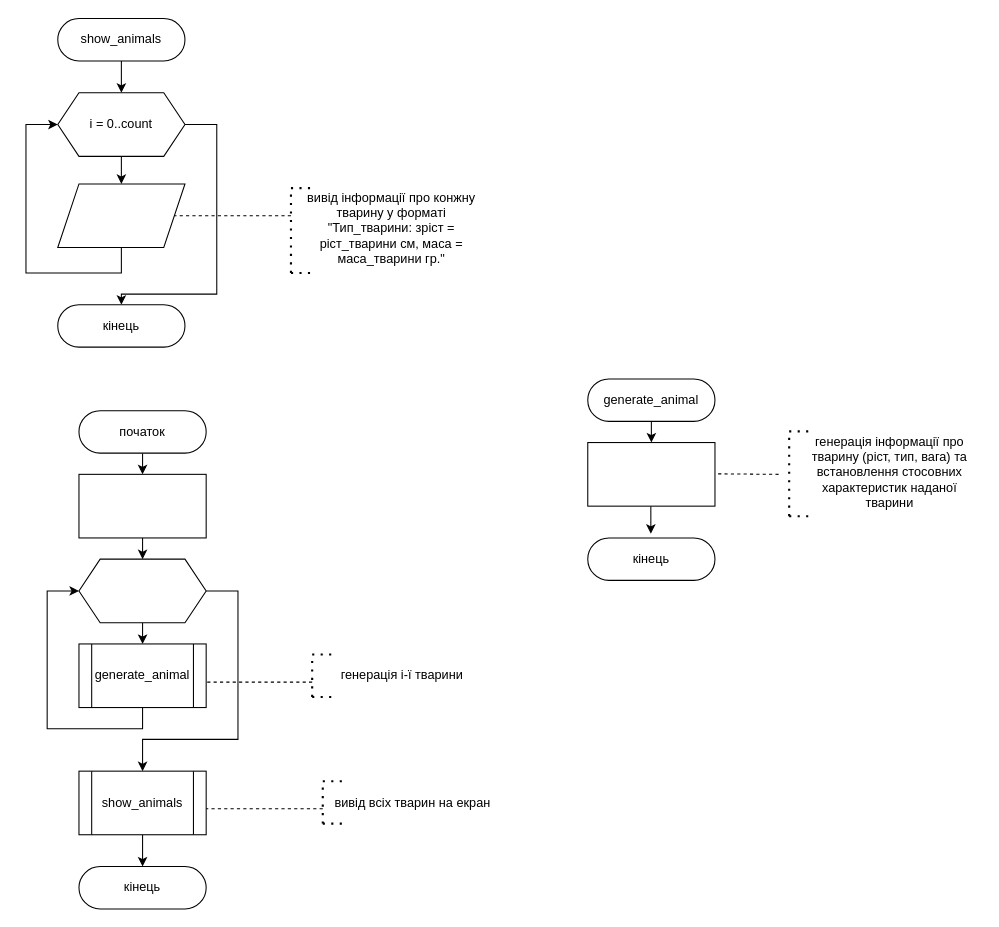
This 999x927 diagram has some shape labels left out. Each missing label, with the centre of its shape:
"animal[i]" goes at [121,215].
"i = 0..animal count" goes at [142,590].
"srand(), animals" goes at [142,505].
"type, height, weight" goes at [651,473].
